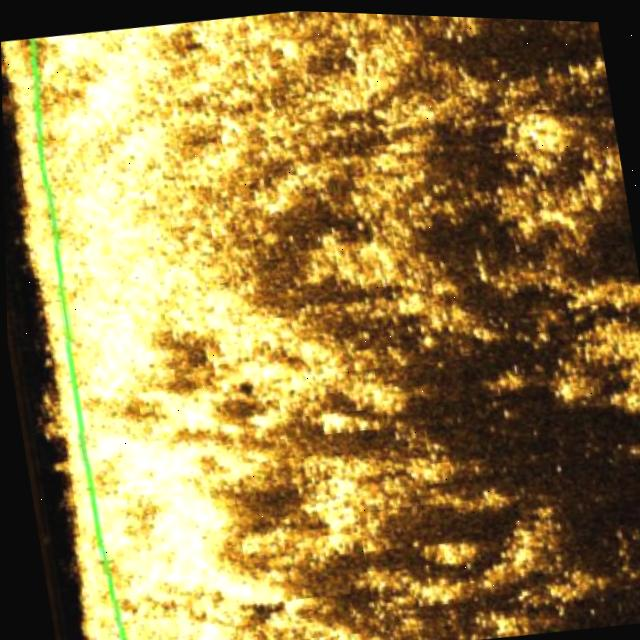bedrock group: (124, 4, 640, 640)
